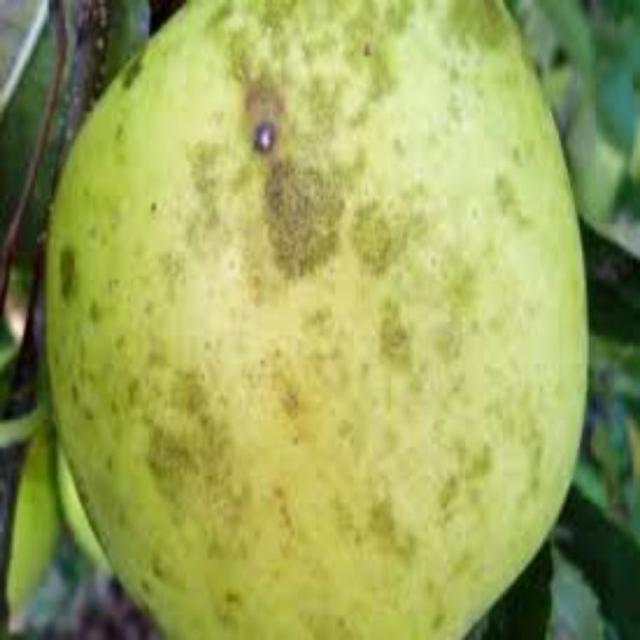Rotten Apple: (24, 0, 598, 629)
